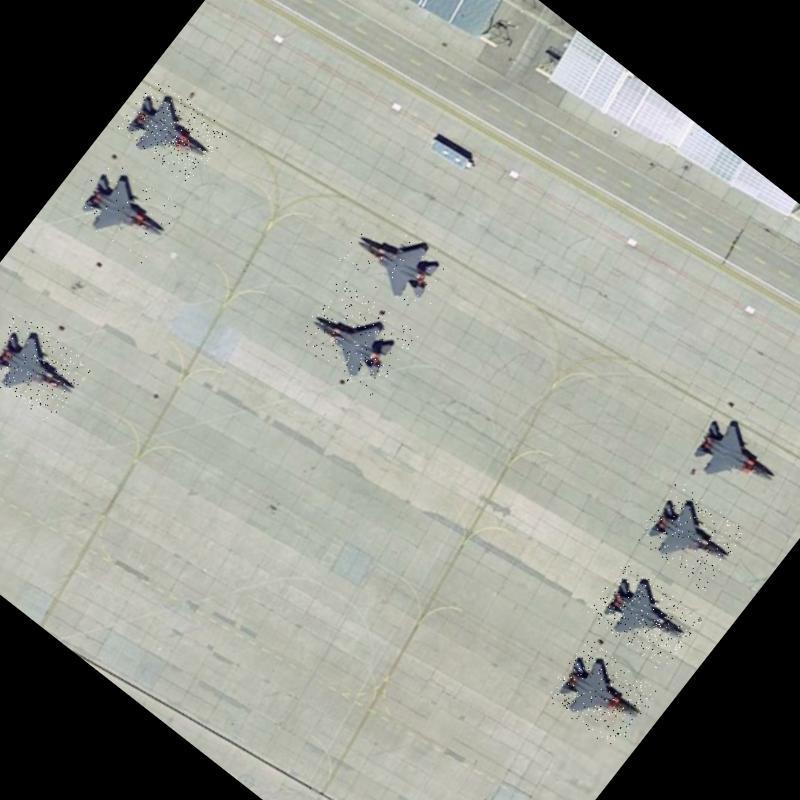A13: (670, 391, 798, 516), (292, 276, 419, 399), (335, 204, 459, 322), (542, 638, 660, 752), (633, 479, 749, 593), (67, 153, 184, 266), (585, 560, 703, 672), (116, 76, 230, 186), (0, 309, 94, 426)
